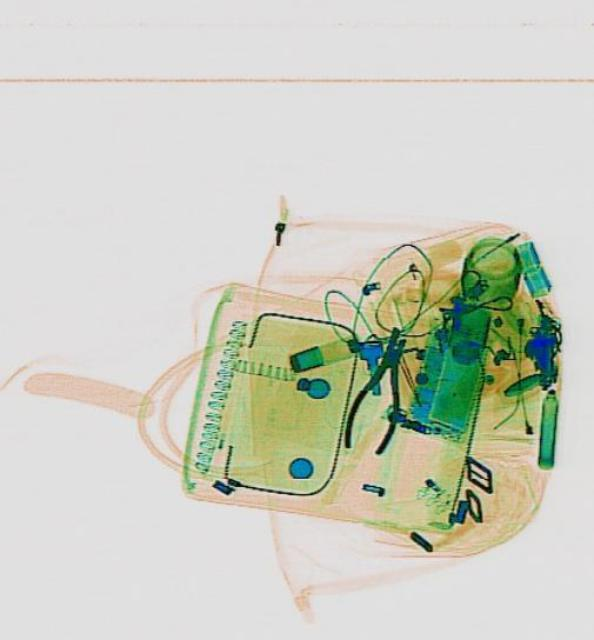Pliers: (334, 320, 422, 458)
